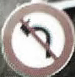Don't turn left: (6, 3, 71, 70)
